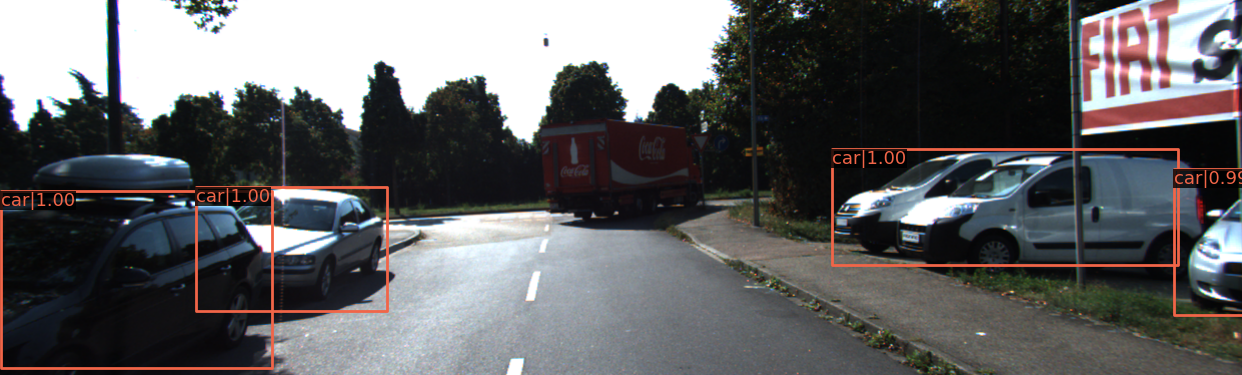car: (1, 190, 273, 375), (887, 151, 1207, 280), (184, 186, 395, 314), (1185, 179, 1242, 332)
